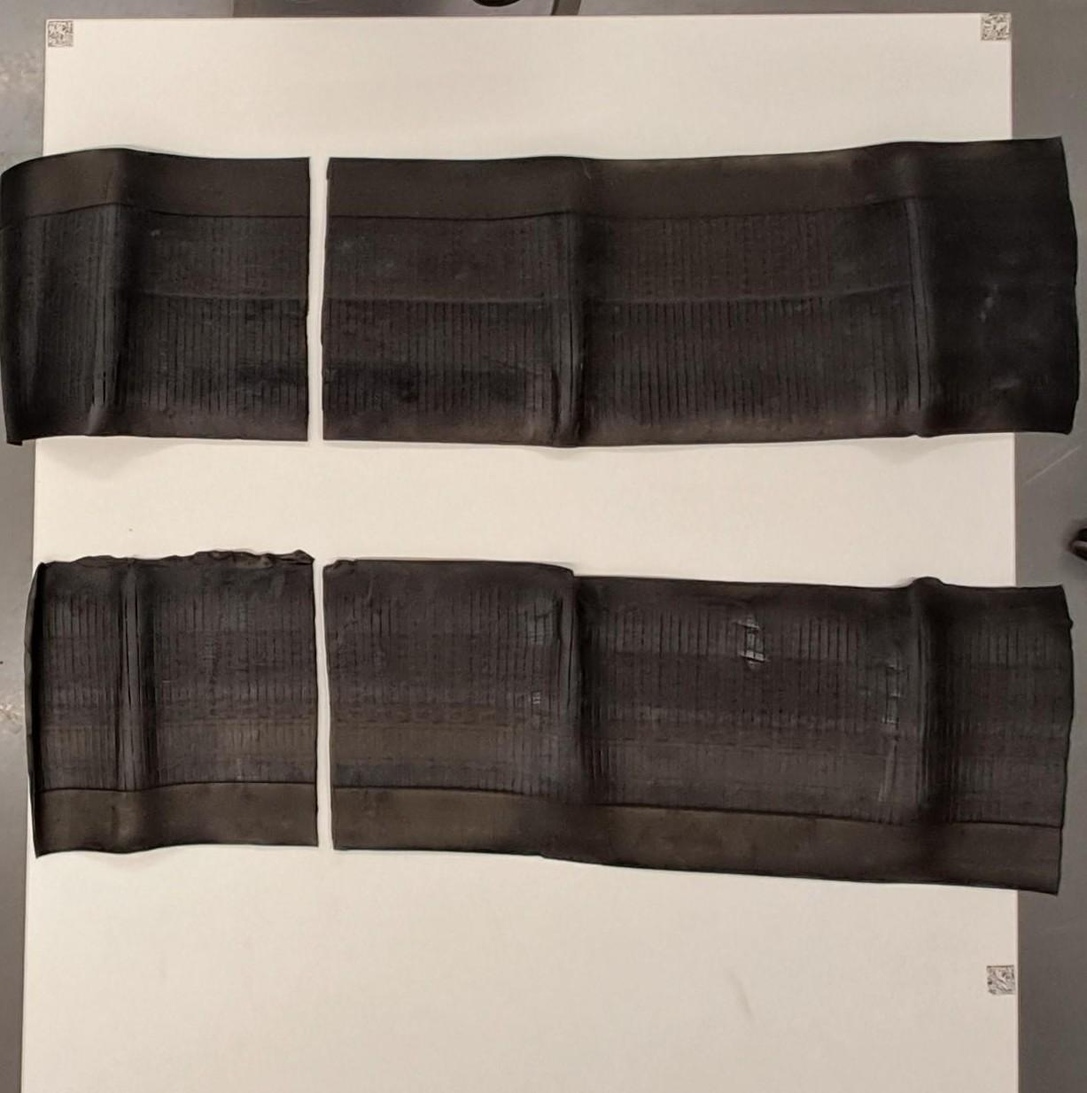cut_edge: (305, 158, 330, 440), (312, 560, 333, 849)
qr_code: (981, 12, 1010, 40), (987, 965, 1014, 995), (48, 21, 72, 46)
